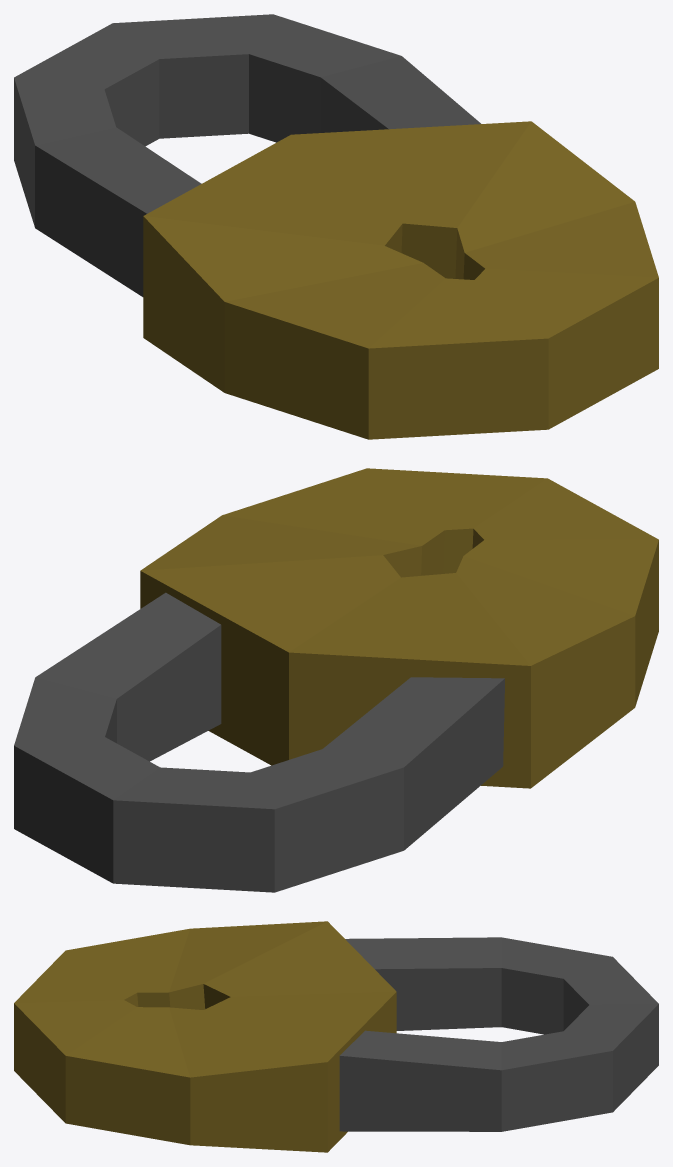
File: keylock01.gltf
3 renders of one model, top to bottom at view 1: azimuth 30°, elevation 25°; view 2: azimuth 150°, elevation 25°; view 3: azimuth 270°, elevation 25°, orthographic. The views are drawn at different scales.
Parts seen in each view (by area): view 1: Cylinder.002; view 2: Cylinder.002; view 3: Cylinder.002.
Boxes of the visible parts, x1,y1,x2,y2 form: Cylinder.002: (14, 14, 658, 439); Cylinder.002: (14, 468, 658, 892); Cylinder.002: (14, 921, 658, 1152).
Size of the model in its own units: 0.1033 by 0.0293 by 0.1891.
1 material, 1 textured.
